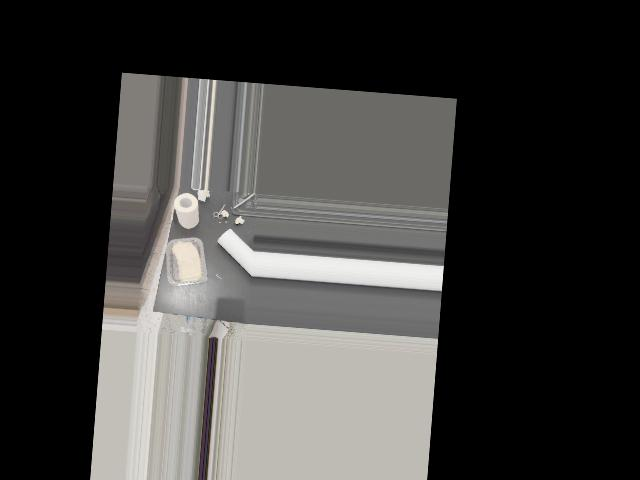cheese: (166, 235, 209, 288)
